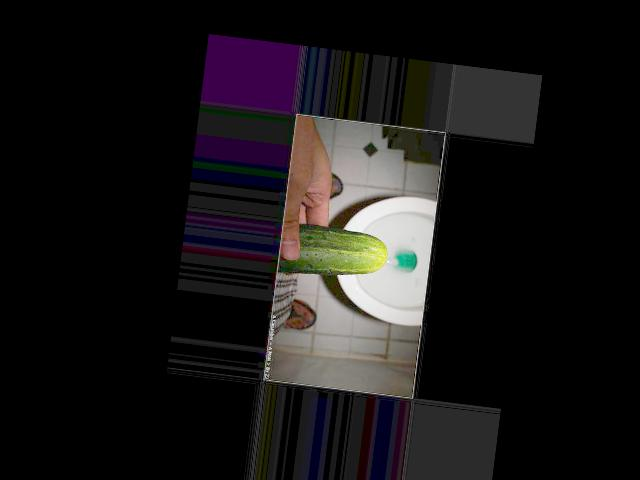cucumber: (275, 221, 389, 285)
